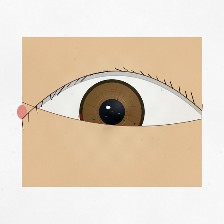hemorrhage_spot: (70, 93, 151, 158)
